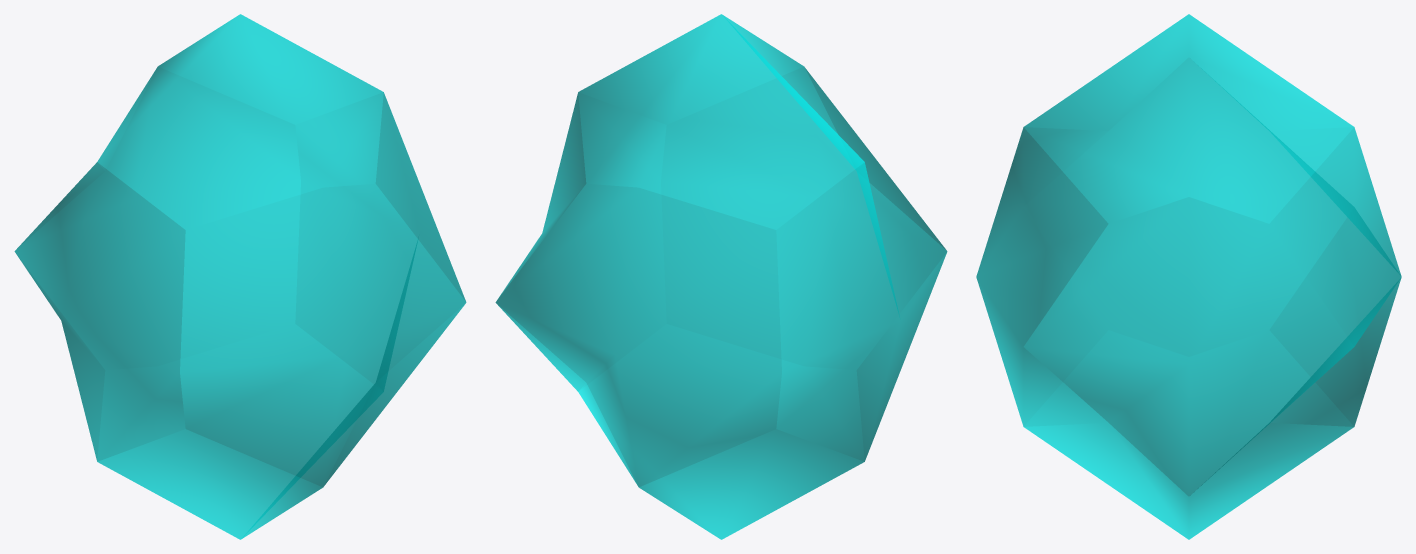
File: powerCrystal.fbx
3 views of the same model, side by side, from view 1: azimuth 30°, elevation 25°; view 2: azimuth 150°, elevation 25°; view 3: azimuth 270°, elevation 25° (orthographic).
Visible parts, largest first — view 1: pCube1; view 2: pCube1; view 3: pCube1.
Boxes of the visible parts, bbox=[...] form: pCube1: bbox=[14, 14, 466, 539]; pCube1: bbox=[495, 14, 947, 539]; pCube1: bbox=[976, 14, 1401, 539].
Size of the model in its own units: 2.5 by 2.57 by 3.51.
